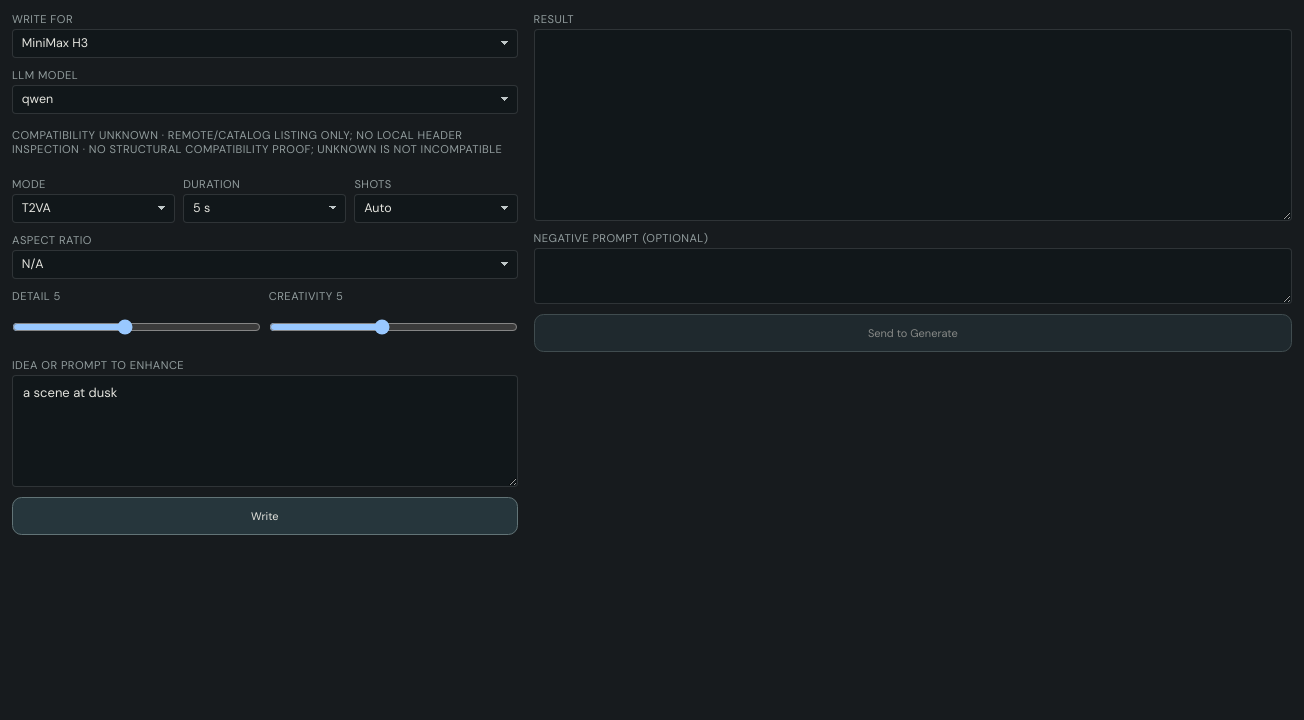
standalone H3 offers canonical Settings choices and sends only the consumed non-square canvas on explicit Send
Later steps or results of the test are not shown.
Expected: the dropdown labelled "LLM model" shows "qwen", top-left (12, 85), bottom-right (518, 114)
Expected: the button "Write" is enabled, top-left (12, 497), bottom-right (518, 535)
Select "3:2" in the dropdown labelled "Aspect ratio": (265, 264) top-left (12, 250), bottom-right (518, 279)
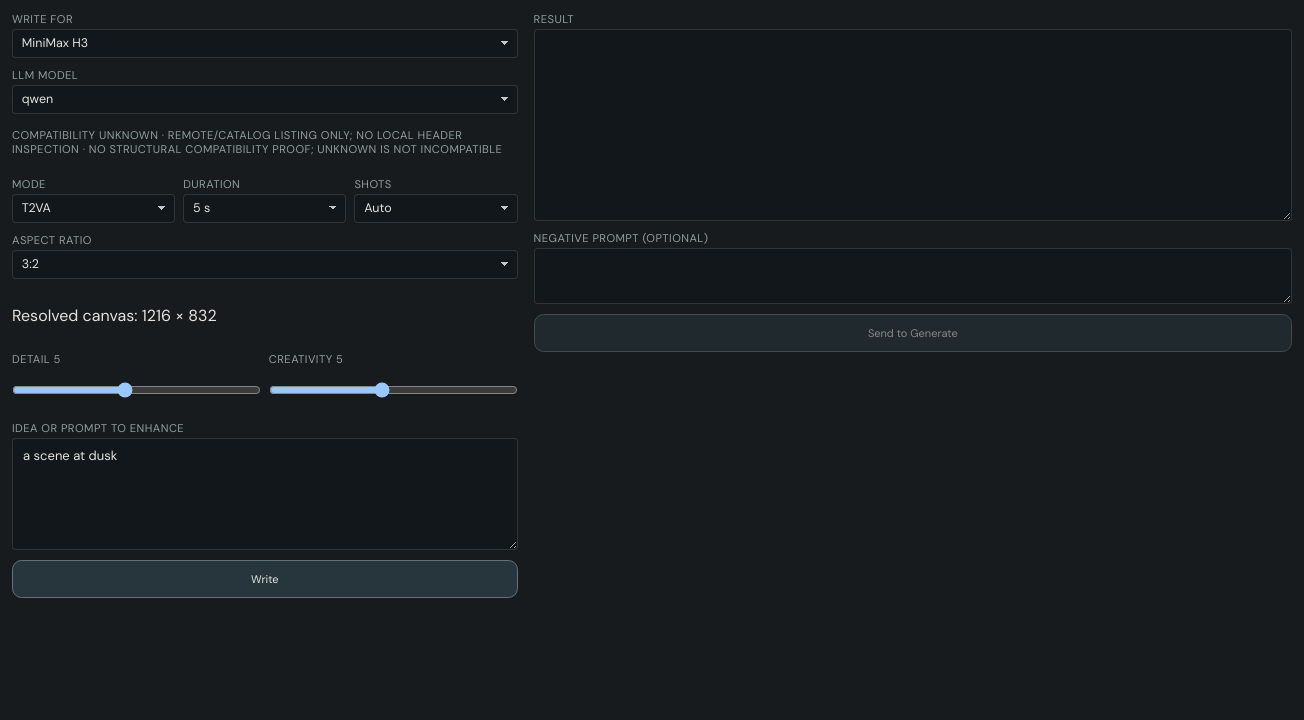
Now the text "Resolved canvas: 1216 × 832" is shown, box top-left (12, 305), bottom-right (217, 326)
Click the button "Write": (265, 579) top-left (12, 560), bottom-right (518, 598)
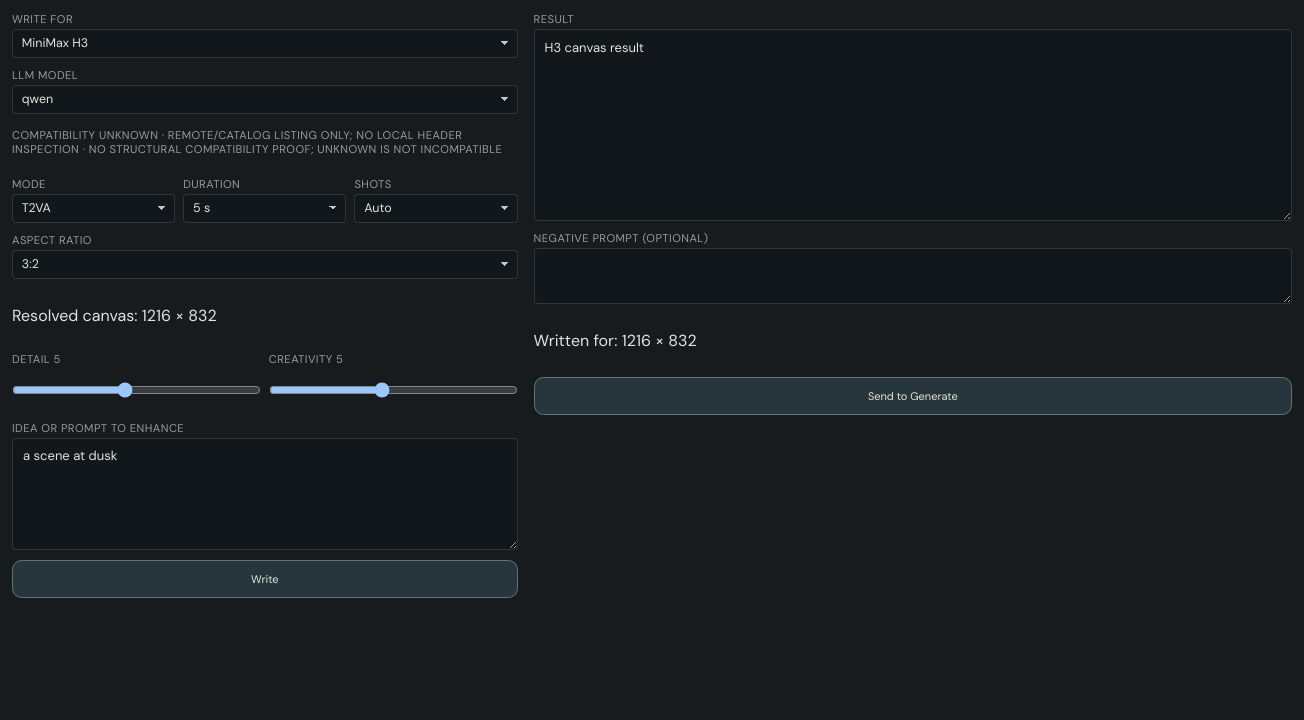
Now the text box labelled "Result" holds "H3 canvas result", box top-left (534, 29), bottom-right (1292, 221)
Now the text "Written for: 1216 × 832" is shown, box top-left (534, 330), bottom-right (697, 351)
